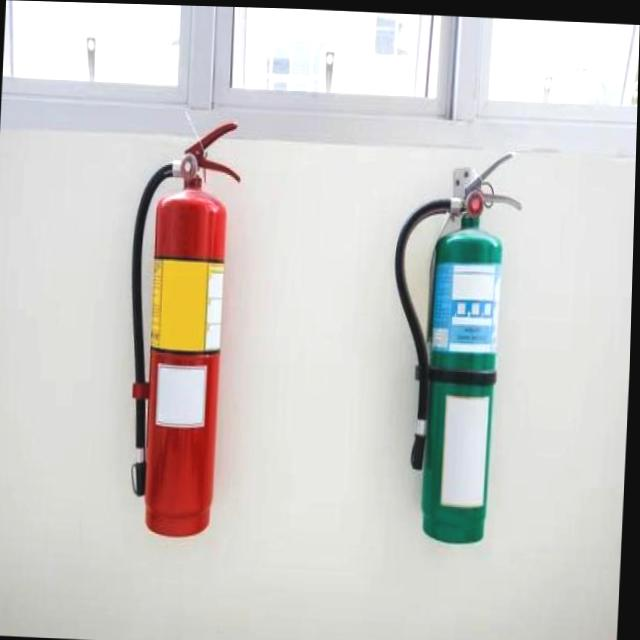FireExtinguisher: (381, 135, 528, 546), (118, 110, 248, 541)
